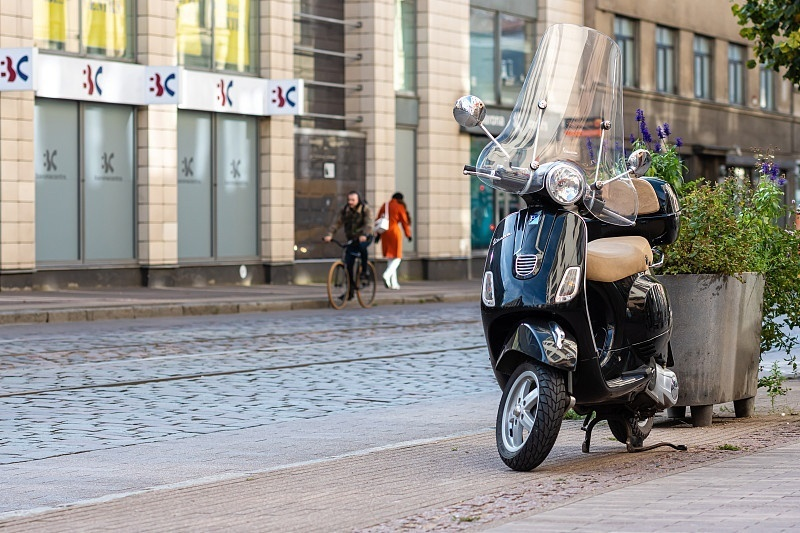non-vehicle: (466, 104, 694, 475), (326, 234, 376, 308)
